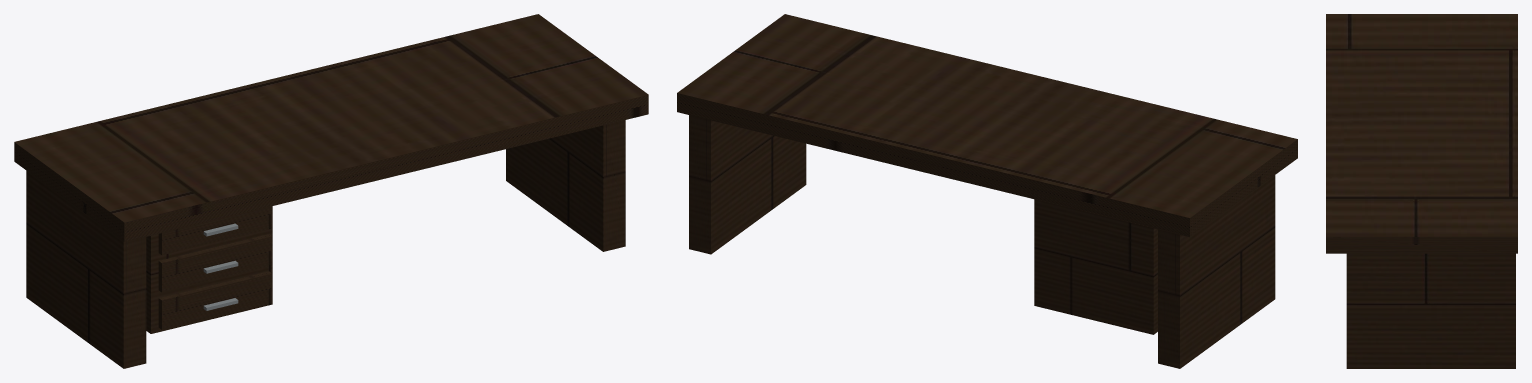
The model's file is desk.glb.
3 renders of one model, left to right at view 1: azimuth 30°, elevation 25°; view 2: azimuth 150°, elevation 25°; view 3: azimuth 270°, elevation 25°, orthographic. The views are drawn at different scales.
Visible parts, largest first — view 1: Desk, Desk side, Desk side.001, Drawer face.001, Drawer face, Desk drawers, Drawer face.002; view 2: Desk, Desk side, Desk drawers, Desk side.001; view 3: Desk, Desk side.001.
Boxes of the visible parts, <box> form: Desk: <box>14,14,648,242</box>; Desk side: <box>26,170,146,368</box>; Desk side.001: <box>506,120,625,251</box>; Drawer face.001: <box>158,234,272,292</box>; Drawer face: <box>158,271,272,329</box>; Desk drawers: <box>146,206,272,333</box>; Drawer face.002: <box>158,206,272,255</box>; Desk: <box>677,14,1297,237</box>; Desk side: <box>1158,175,1275,368</box>; Desk drawers: <box>1034,199,1157,334</box>; Desk side.001: <box>689,115,806,254</box>; Desk: <box>1326,14,1517,253</box>; Desk side.001: <box>1346,253,1515,368</box>.
Size of the model in its own units: 2.8 by 0.805 by 1.02.
2 materials, 1 textured.
